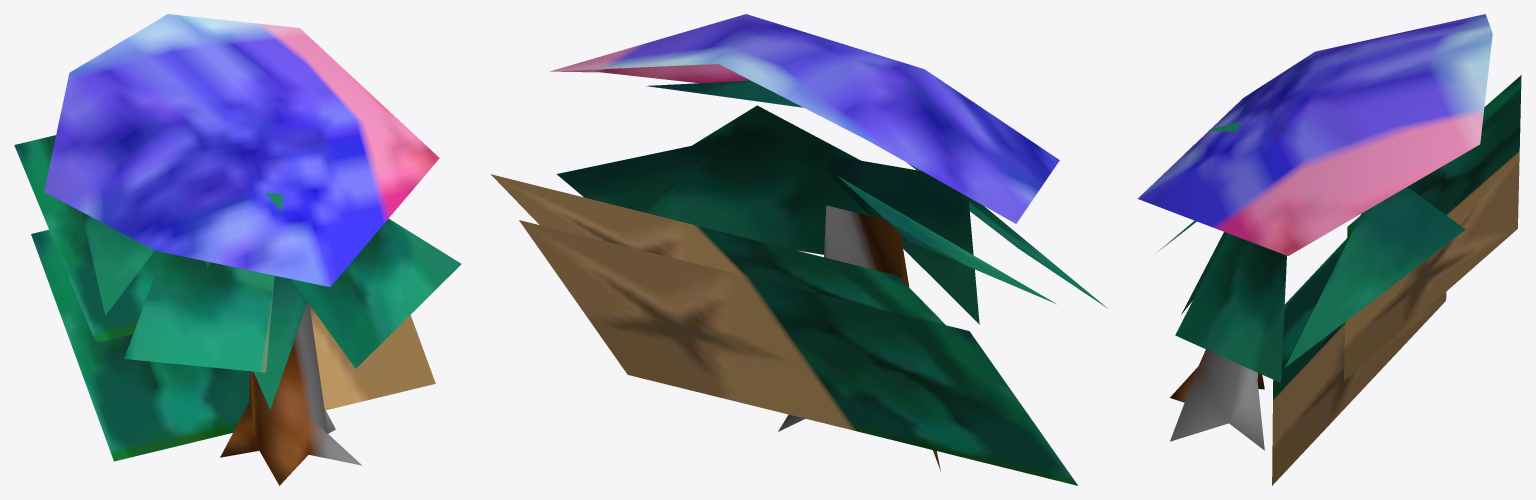
File: fg_bushC_1_s.dae
3 renders of one model, left to right at view 1: azimuth 30°, elevation 25°; view 2: azimuth 150°, elevation 25°; view 3: azimuth 270°, elevation 25°, orthographic. The views are drawn at different scales.
Parts seen in each view (by area): view 1: fg_bushC_1_s; view 2: fg_bushC_1_s; view 3: fg_bushC_1_s.
Boxes of the visible parts, bbox=[...] form: fg_bushC_1_s: bbox=[14, 14, 461, 485]; fg_bushC_1_s: bbox=[490, 14, 1106, 485]; fg_bushC_1_s: bbox=[1137, 14, 1521, 485].
Size of the model in its own units: 31.21 by 29 by 26.29.
Materials: 1 (1 with a texture image).
